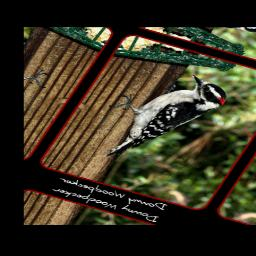Woodpecker: (78, 59, 237, 174)
